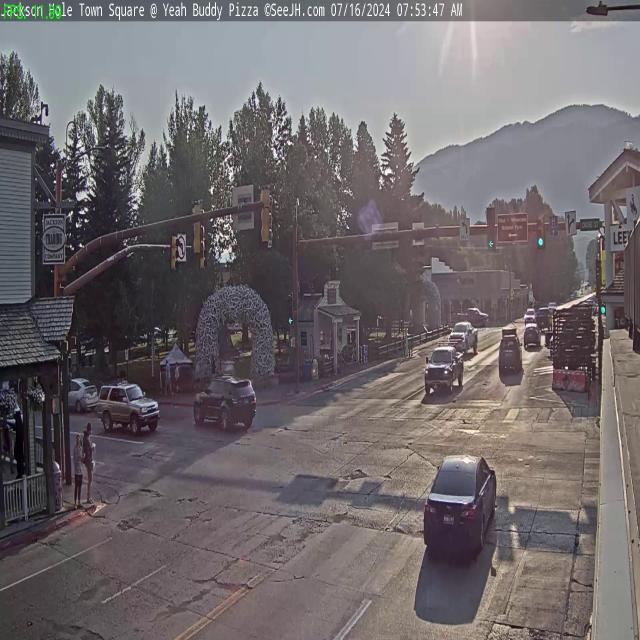person: (73, 427, 86, 506), (82, 422, 94, 505), (13, 412, 23, 483)
pickup: (422, 344, 466, 396), (449, 320, 477, 356)
sedan: (420, 452, 501, 560)
suv: (192, 375, 258, 432), (98, 382, 160, 438), (66, 377, 99, 414), (498, 331, 524, 371), (524, 324, 540, 347), (536, 306, 552, 329)
traffic light: (190, 199, 203, 256), (260, 184, 272, 243), (486, 206, 496, 250), (537, 215, 545, 248), (171, 235, 178, 272)
